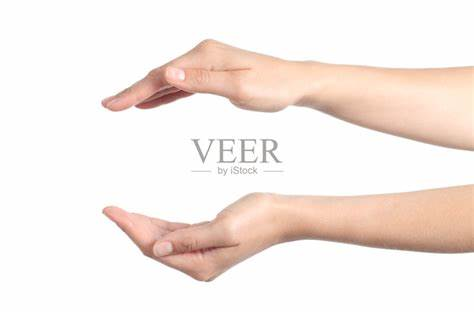no-phone: (93, 19, 322, 126), (95, 179, 303, 292)
